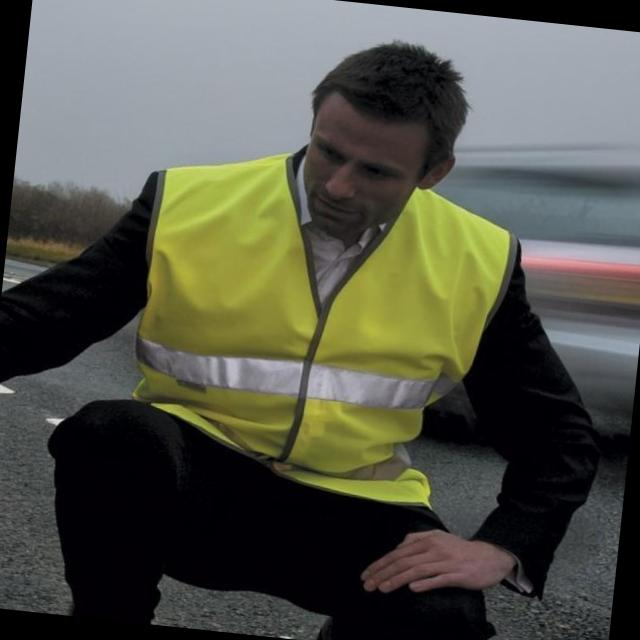safety_vest: (105, 144, 525, 527)
vehicle: (67, 37, 572, 640)
